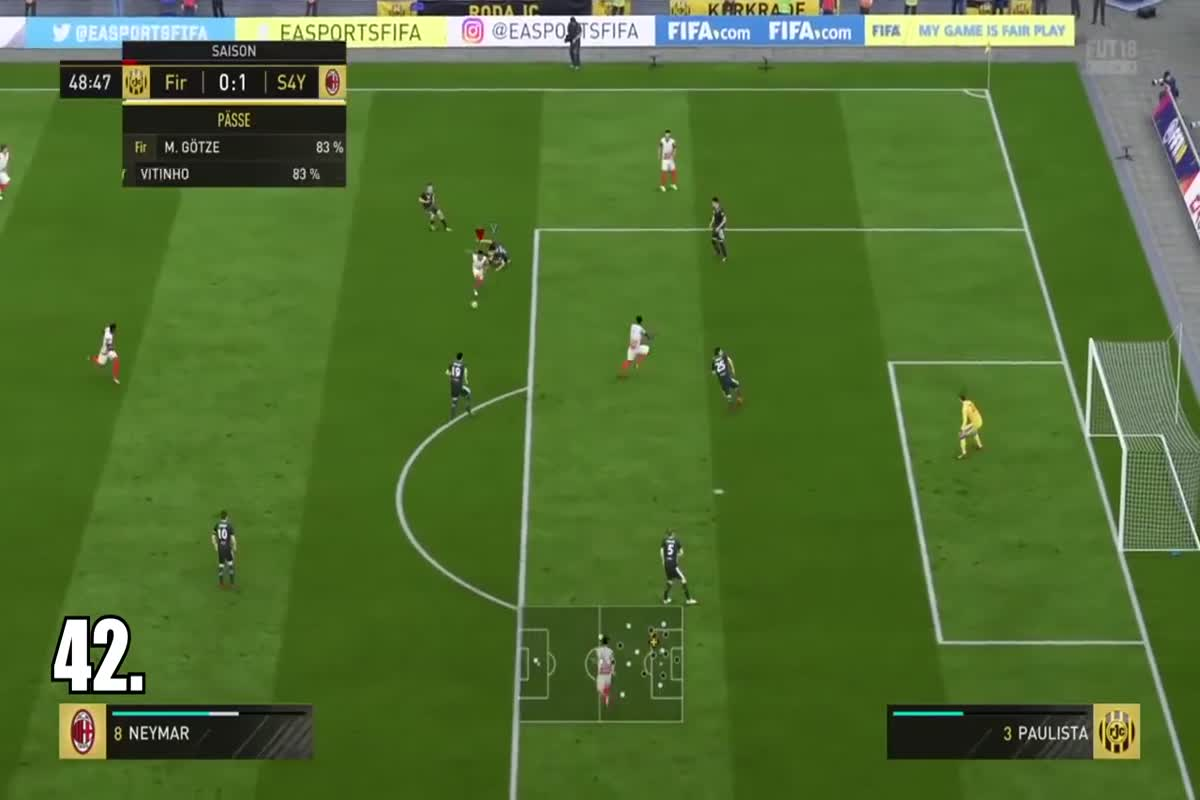ball: (467, 299, 488, 318)
